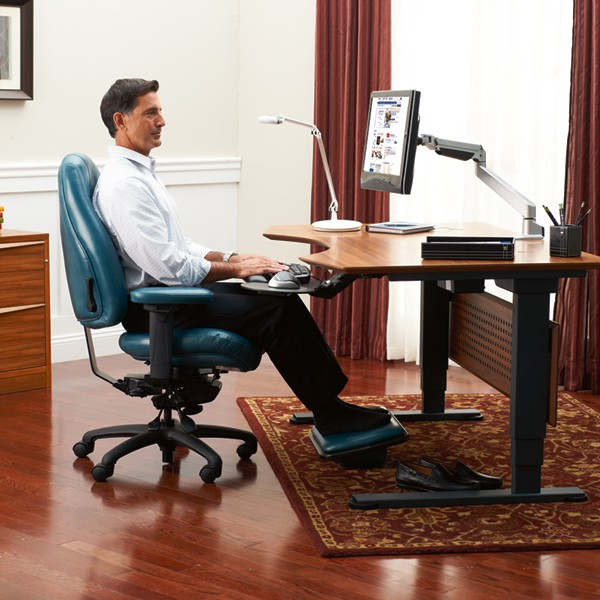chairs: (52, 153, 260, 490)
